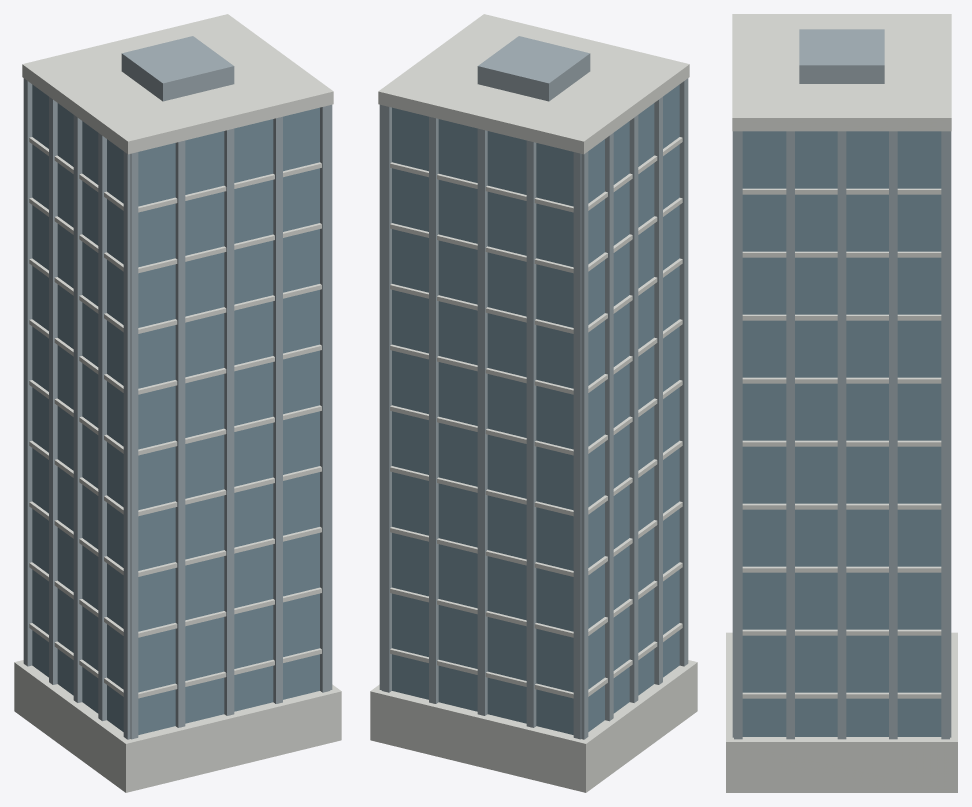
File: great-eagle-centre.glb
The picture shows the model from 3 angles, left to right: view 1: azimuth 30°, elevation 25°; view 2: azimuth 150°, elevation 25°; view 3: azimuth 270°, elevation 25°; orthographic projection. The views are drawn at different scales.
Visible parts, largest first — view 1: Great Eagle continuous glazed shaft, Great Eagle roof cap, Great Eagle street podium, Great Eagle vertical facade pier.004, Great Eagle vertical facade pier.002, Great Eagle vertical facade pier.008, Great Eagle vertical facade pier.006, Great Eagle side facade pier.004, Great Eagle side facade pier.008, Great Eagle vertical facade pier, Great Eagle side facade pier.002, Great Eagle side facade pier.006 (+21 smaller); view 2: Great Eagle continuous glazed shaft, Great Eagle roof cap, Great Eagle street podium, Great Eagle vertical facade pier.005, Great Eagle vertical facade pier.003, Great Eagle vertical facade pier.009, Great Eagle vertical facade pier.007, Great Eagle side facade pier, Great Eagle side facade pier.004, Great Eagle vertical facade pier.001, Great Eagle side facade pier.006, Great Eagle side facade pier.002 (+21 smaller); view 3: Great Eagle continuous glazed shaft, Great Eagle roof cap, Great Eagle street podium, Great Eagle side facade pier.005, Great Eagle side facade pier.001, Great Eagle side facade pier.003, Great Eagle side facade pier.007, Great Eagle side facade pier.009, Great Eagle rooftop plant housing, flush floor joint Great Eagle.003, flush floor joint Great Eagle.007, flush floor joint Great Eagle.011 (+8 smaller).
Boxes of the visible parts, left/top/right/bottom form: Great Eagle continuous glazed shaft: left=32, top=84, right=319, bottom=734; Great Eagle roof cap: left=22, top=14, right=333, bottom=154; Great Eagle street podium: left=14, top=660, right=341, bottom=792; Great Eagle vertical facade pier.004: left=224, top=128, right=234, bottom=715; Great Eagle vertical facade pier.002: left=175, top=140, right=185, bottom=727; Great Eagle vertical facade pier.008: left=320, top=105, right=329, bottom=692; Great Eagle vertical facade pier.006: left=273, top=116, right=282, bottom=703; Great Eagle side facade pier.004: left=73, top=115, right=82, bottom=702; Great Eagle side facade pier.008: left=23, top=78, right=32, bottom=666; Great Eagle vertical facade pier: left=130, top=152, right=138, bottom=739; Great Eagle side facade pier.002: left=98, top=133, right=106, bottom=721; Great Eagle side facade pier.006: left=49, top=97, right=57, bottom=684; Great Eagle continuous glazed shaft: left=392, top=84, right=679, bottom=734; Great Eagle roof cap: left=378, top=14, right=689, bottom=154; Great Eagle street podium: left=370, top=660, right=697, bottom=792; Great Eagle vertical facade pier.005: left=477, top=128, right=487, bottom=715; Great Eagle vertical facade pier.003: left=526, top=140, right=536, bottom=727; Great Eagle vertical facade pier.009: left=382, top=105, right=391, bottom=692; Great Eagle vertical facade pier.007: left=429, top=116, right=438, bottom=703; Great Eagle side facade pier: left=679, top=78, right=688, bottom=666; Great Eagle side facade pier.004: left=629, top=115, right=638, bottom=702; Great Eagle vertical facade pier.001: left=573, top=152, right=581, bottom=739; Great Eagle side facade pier.006: left=605, top=133, right=613, bottom=721; Great Eagle side facade pier.002: left=654, top=97, right=662, bottom=684; Great Eagle continuous glazed shaft: left=742, top=131, right=941, bottom=736; Great Eagle roof cap: left=732, top=14, right=951, bottom=131; Great Eagle street podium: left=726, top=632, right=957, bottom=792; Great Eagle side facade pier.005: left=837, top=131, right=846, bottom=739; Great Eagle side facade pier.001: left=734, top=131, right=742, bottom=739; Great Eagle side facade pier.003: left=786, top=131, right=794, bottom=739; Great Eagle side facade pier.007: left=889, top=131, right=897, bottom=739; Great Eagle side facade pier.009: left=941, top=131, right=949, bottom=739; Great Eagle rooftop plant housing: left=799, top=29, right=884, bottom=83; flush floor joint Great Eagle.003: left=742, top=692, right=941, bottom=698; flush floor joint Great Eagle.007: left=742, top=629, right=941, bottom=635; flush floor joint Great Eagle.011: left=742, top=566, right=941, bottom=572.
Size of the model in its own units: 2.12 by 6.25 by 1.9.
